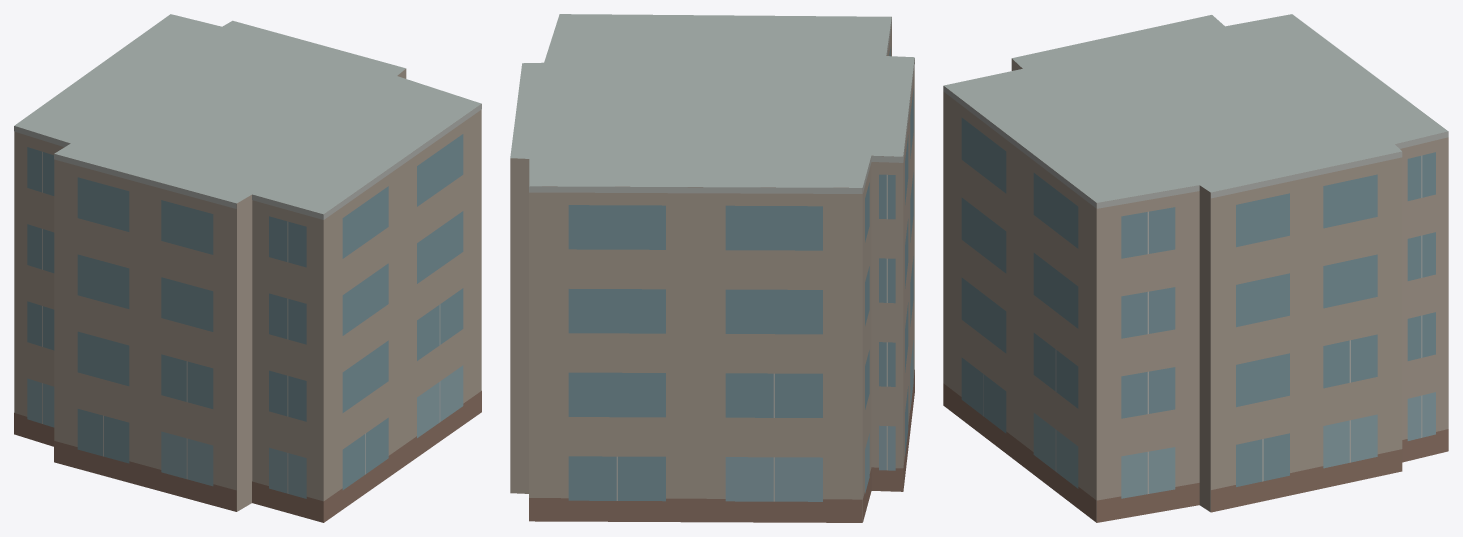
Rendered from survey-upis-32641284.glb.
3 views of the same model, side by side, from view 1: azimuth 30°, elevation 25°; view 2: azimuth 150°, elevation 25°; view 3: azimuth 270°, elevation 25° (orthographic). The views are drawn at different scales.
Visible parts, largest first — view 1: survey-upis-32641284.tmp; view 2: survey-upis-32641284.tmp; view 3: survey-upis-32641284.tmp.
Part boxes in pixels (box(x1,y1,x2,y2)): survey-upis-32641284.tmp: box(14, 14, 481, 522); survey-upis-32641284.tmp: box(510, 14, 914, 522); survey-upis-32641284.tmp: box(943, 14, 1448, 522).
Size of the model in its own units: 16.73 by 13.2 by 18.89.
